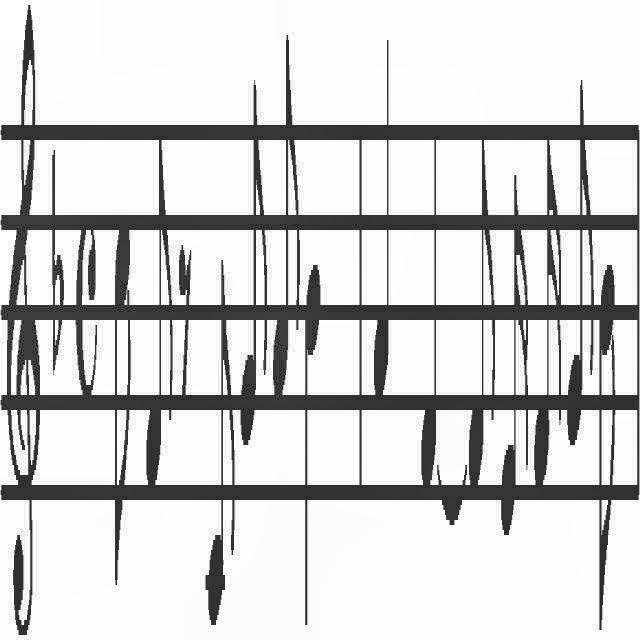Bass-clef: (4, 0, 44, 640)
Bemol: (49, 146, 63, 390)
Eighth-note: (205, 227, 237, 640), (142, 116, 174, 508), (566, 77, 596, 459), (468, 110, 496, 504), (272, 38, 300, 430), (240, 53, 268, 444), (112, 205, 134, 587), (596, 235, 616, 617)
Eighth-rest: (177, 238, 193, 418)
Quarter-note: (302, 244, 326, 636), (418, 126, 442, 516), (370, 48, 394, 402)
Sixteenth-note: (496, 156, 532, 548), (534, 133, 562, 504)
